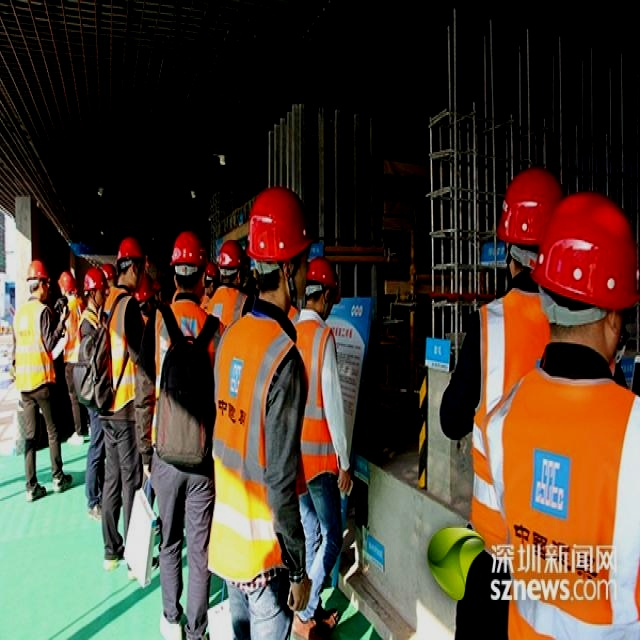Con_Casco: (247, 186, 313, 298)
Con_Chaleco: (212, 311, 294, 574), (292, 312, 350, 478), (11, 300, 56, 385)
